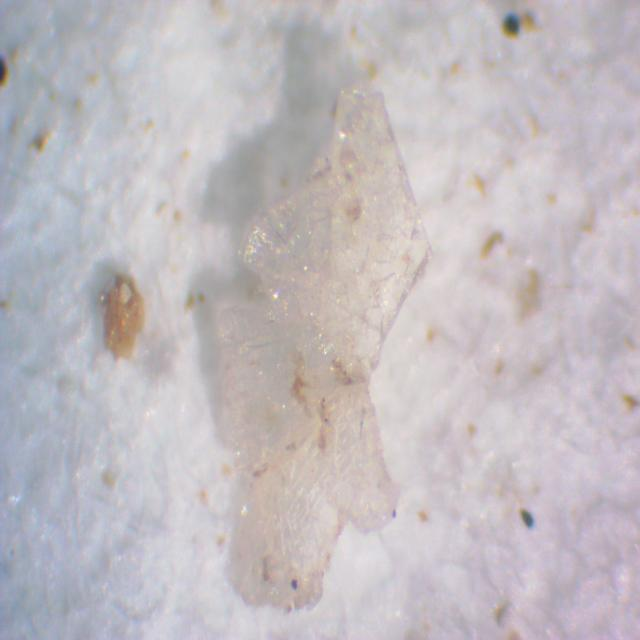microplastic: (210, 89, 436, 610)
